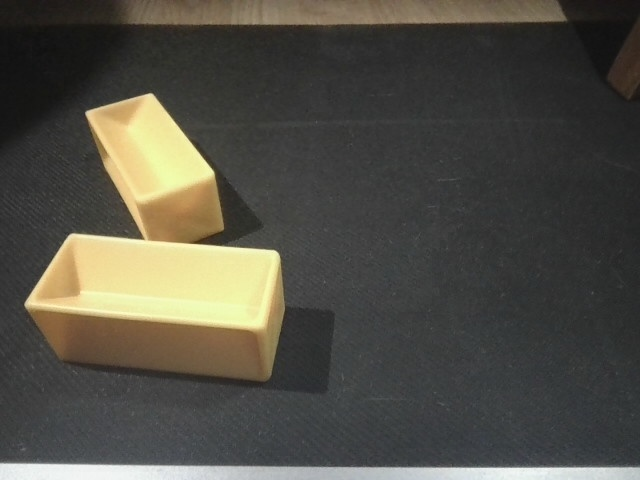YellowSample: (19, 230, 286, 382), (84, 92, 225, 249)
